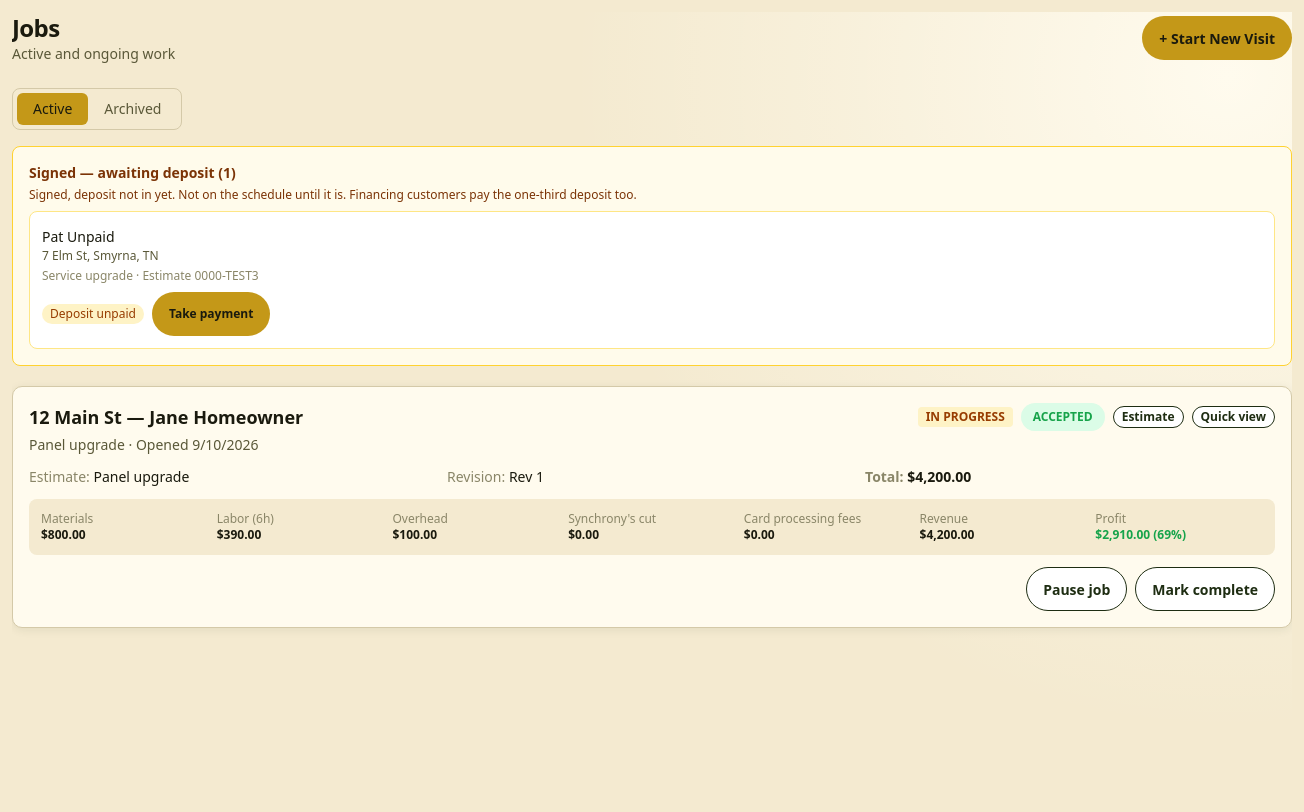
Test: JobsPage › carries the labelled Signed — awaiting deposit section, whose Take payment opens the job drawer; the Jobs list itself is unchanged (Kyle, 2026-11-27)
The width and height of the screenshot is (1304, 812).
Expected: the heading "Signed — awaiting deposit (1)" is shown, [29, 163, 236, 182]
Expected: the link "Pat Unpaid" is shown, [42, 227, 115, 246]
Click the button "Take payment": (211, 314) [152, 292, 270, 336]
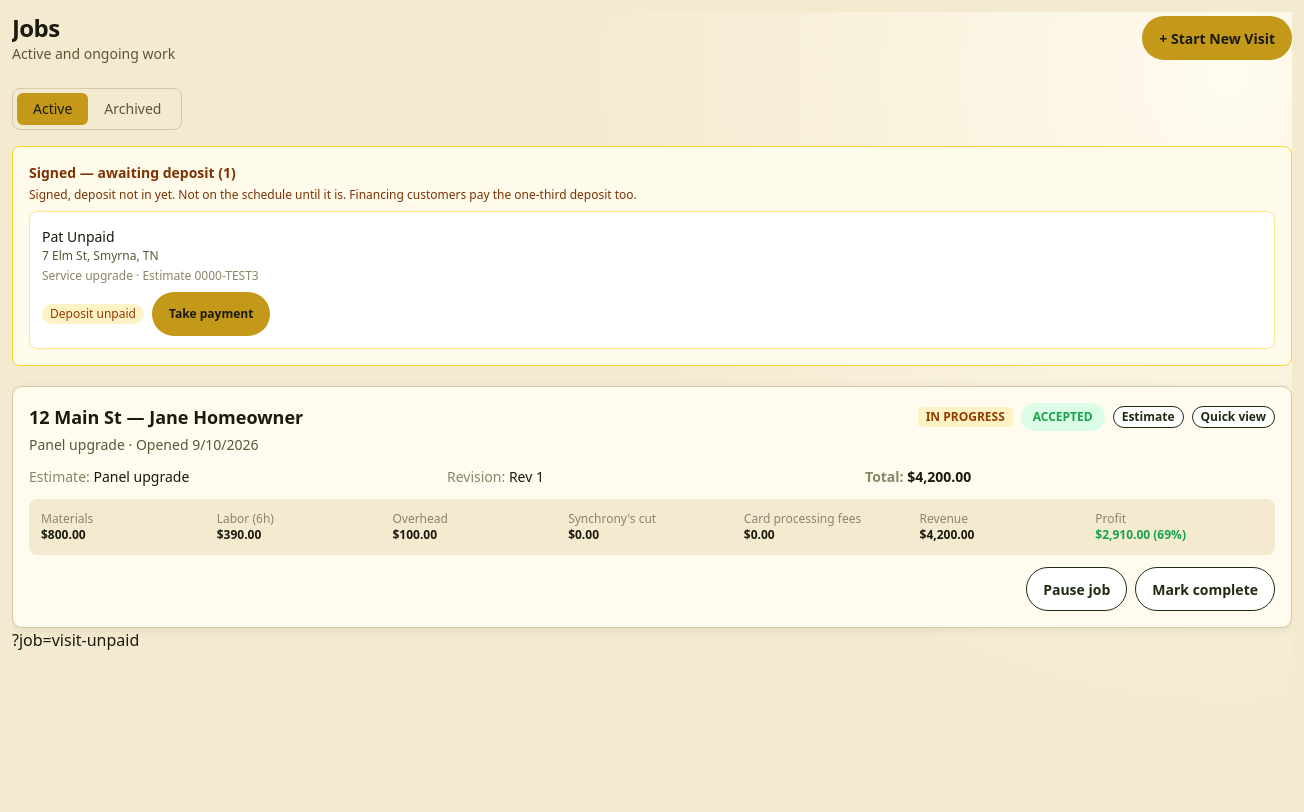
Expected: the text with test id "search" shows "job=visit-unpaid", [12, 629, 139, 651]
